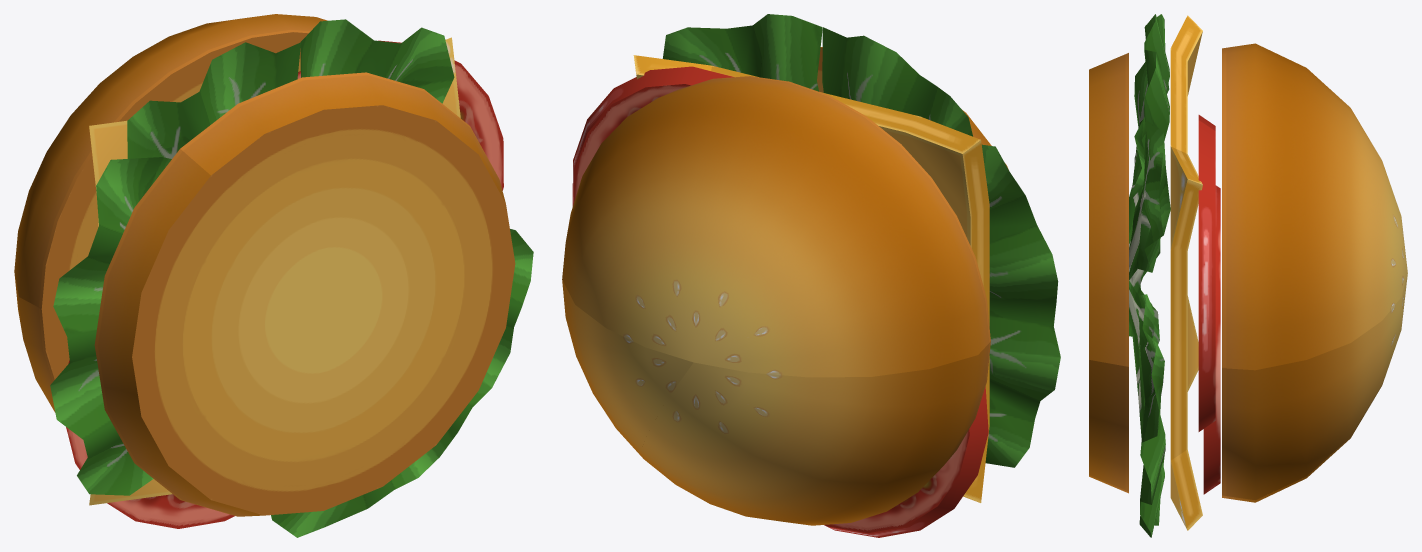
The model's file is Hamburger_piece.fbx.
The picture shows the model from 3 angles, left to right: view 1: azimuth 30°, elevation 25°; view 2: azimuth 150°, elevation 25°; view 3: azimuth 270°, elevation 25°; orthographic projection. The views are drawn at different scales.
Parts seen in each view (by area): view 1: polySurface198, polySurface204, polySurface201, polySurface186, polySurface224, polySurface223, polySurface222, polySurface221, polySurface193, polySurface208, polySurface205, polySurface180 (+1 smaller); view 2: polySurface186, polySurface193, polySurface224, polySurface192, polySurface180, polySurface222, polySurface223, polySurface208, polySurface205, polySurface182, polySurface181; view 3: polySurface186, polySurface192, polySurface204, polySurface182, polySurface221, polySurface205, polySurface222, polySurface201, polySurface180, polySurface208, polySurface181, polySurface224 (+2 smaller).
Part boxes in pixels (x1,y1,x2,y2): polySurface198: (94, 149, 323, 516); polySurface204: (180, 72, 515, 310); polySurface201: (323, 264, 515, 510); polySurface186: (14, 14, 327, 308); polySurface224: (50, 157, 171, 495); polySurface223: (127, 42, 300, 158); polySurface222: (300, 19, 454, 103); polySurface221: (271, 229, 533, 537); polySurface193: (14, 272, 69, 412); polySurface208: (66, 360, 234, 528); polySurface205: (378, 40, 503, 190); polySurface180: (89, 120, 127, 226); polySurface186: (562, 76, 990, 377); polySurface193: (641, 341, 990, 525); polySurface224: (982, 144, 1060, 467); polySurface192: (562, 279, 693, 458); polySurface180: (711, 65, 989, 315); polySurface222: (662, 14, 822, 91); polySurface223: (822, 27, 972, 136); polySurface208: (824, 386, 988, 537); polySurface205: (572, 66, 734, 206); polySurface182: (633, 55, 711, 79); polySurface181: (963, 315, 989, 502); polySurface186: (1222, 43, 1407, 370); polySurface192: (1222, 275, 1407, 500); polySurface204: (1089, 53, 1128, 366); polySurface182: (1170, 146, 1202, 460); polySurface221: (1129, 267, 1165, 537); polySurface205: (1198, 120, 1215, 431); polySurface222: (1129, 50, 1170, 282); polySurface201: (1089, 360, 1128, 493); polySurface180: (1170, 15, 1202, 153); polySurface208: (1203, 185, 1220, 494); polySurface181: (1170, 296, 1202, 530); polySurface224: (1129, 62, 1160, 344).
Size of the model in its own units: 340 by 339 by 206.
